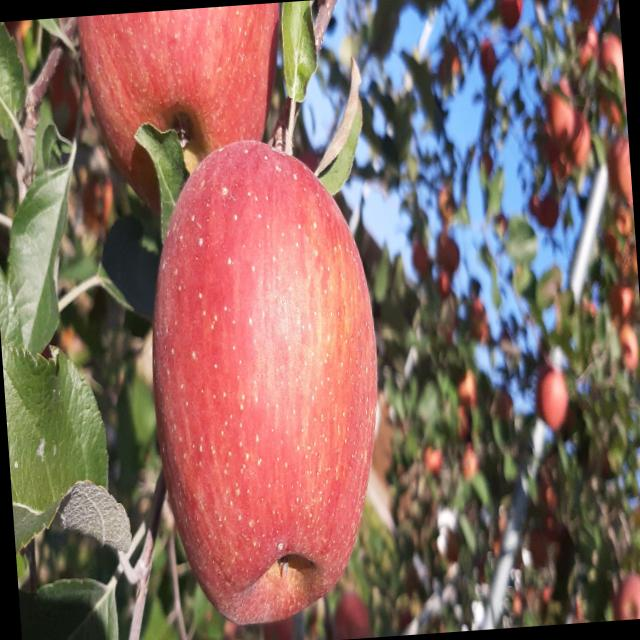fresh: (132, 124, 402, 640)
